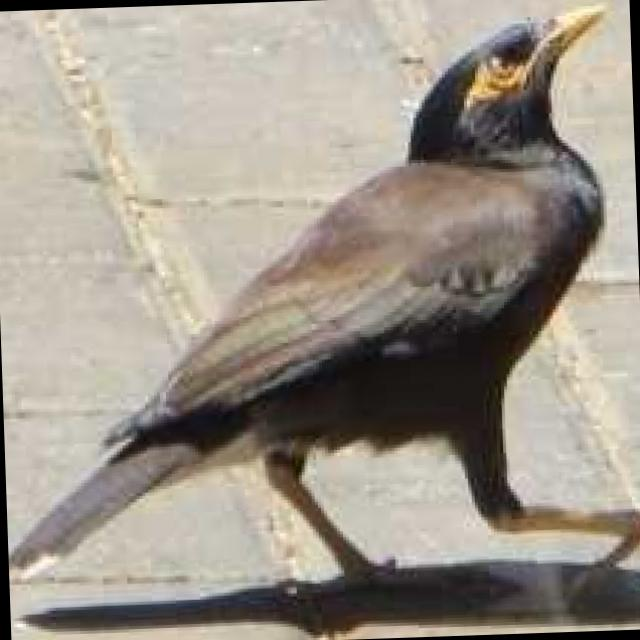bird: (0, 1, 640, 639)
